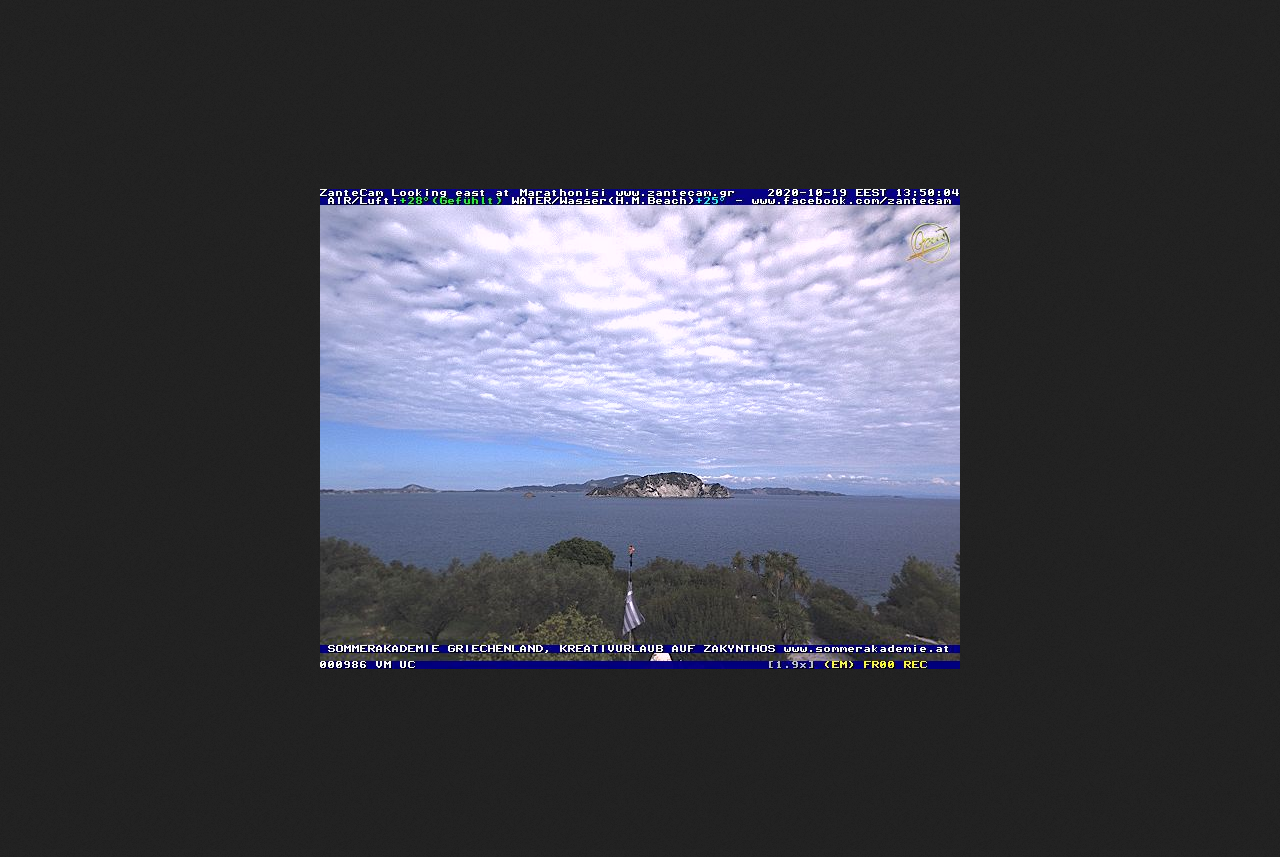no: (613, 580, 645, 641)
